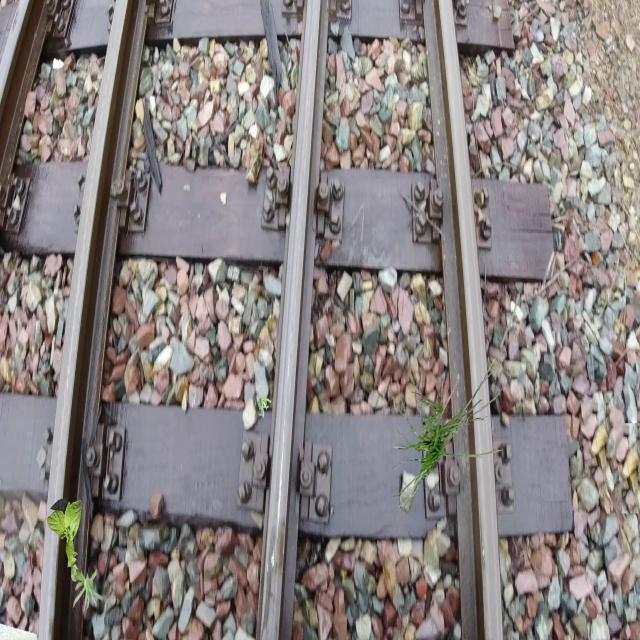Plant: (385, 356, 503, 520), (46, 498, 82, 582), (73, 568, 106, 614), (258, 398, 272, 418)
